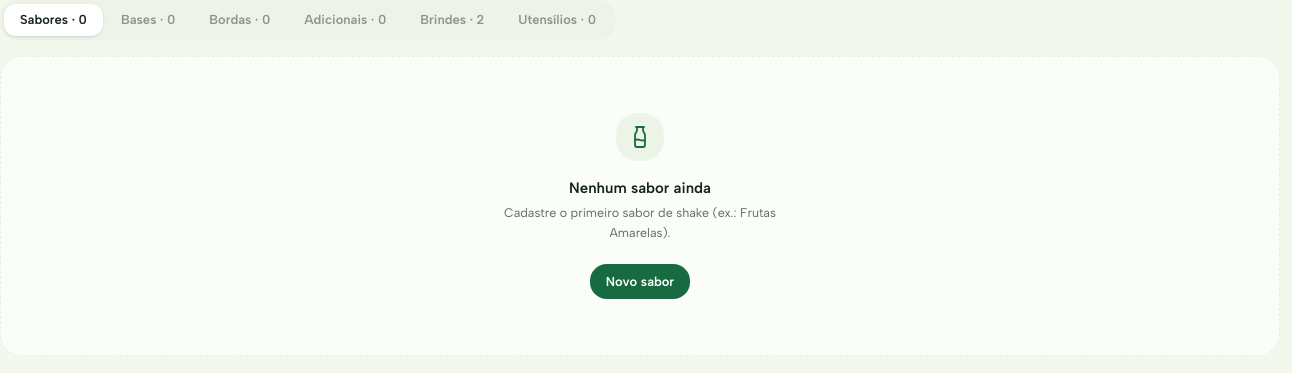
Scenario: ShakesClient — Brindes tab › shows the struck menu price and R$ 0,00 on a brinde card
Click the button "Brindes · 2" at [452, 20], box [404,4,500,36]
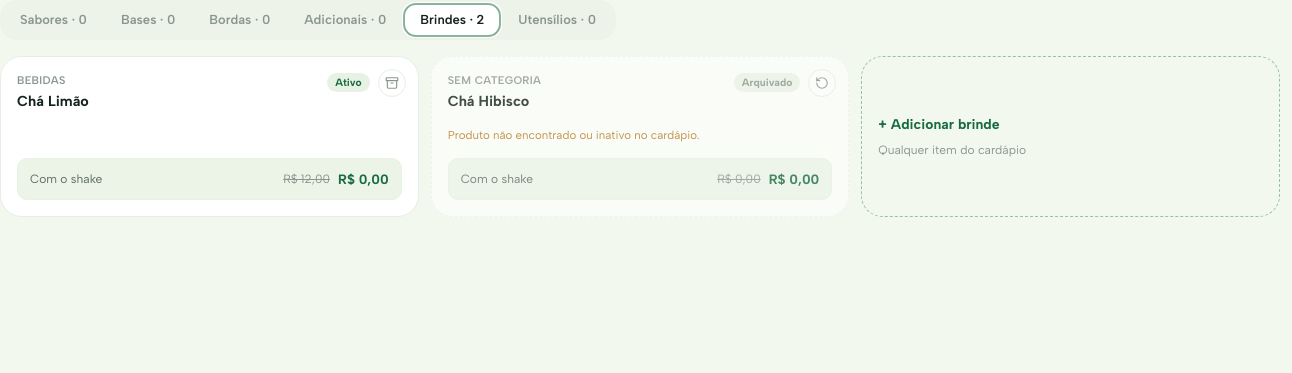
Expected: the text "R$ 12,00" is shown, [283,170,330,188]
Expected: the text "R$ 0,00" next to "R$ 12,00" is shown, [338,171,389,187]
